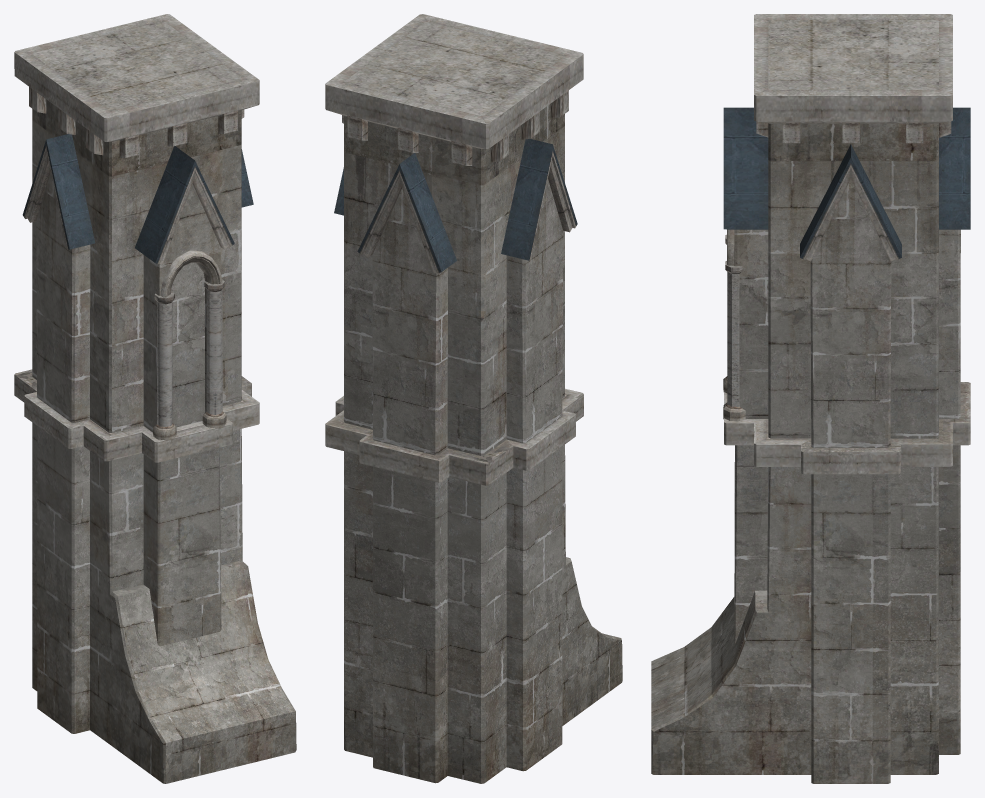
The model's file is bg_lut_lucastle_churchtower11_sm_ksh.FBX.
The picture shows the model from 3 angles, left to right: view 1: azimuth 30°, elevation 25°; view 2: azimuth 150°, elevation 25°; view 3: azimuth 270°, elevation 25°; orthographic projection. The views are drawn at different scales.
Parts seen in each view (by area): view 1: bg_lut_lucastle_churchtower11_sm_ksh; view 2: bg_lut_lucastle_churchtower11_sm_ksh; view 3: bg_lut_lucastle_churchtower11_sm_ksh.
Part boxes in pixels (x1=…): bg_lut_lucastle_churchtower11_sm_ksh: x1=14, y1=14, x2=296, y2=783; bg_lut_lucastle_churchtower11_sm_ksh: x1=325, y1=14, x2=622, y2=783; bg_lut_lucastle_churchtower11_sm_ksh: x1=651, y1=14, x2=970, y2=783.
Bounding box in the file's own units: 145 × 478 × 202.
